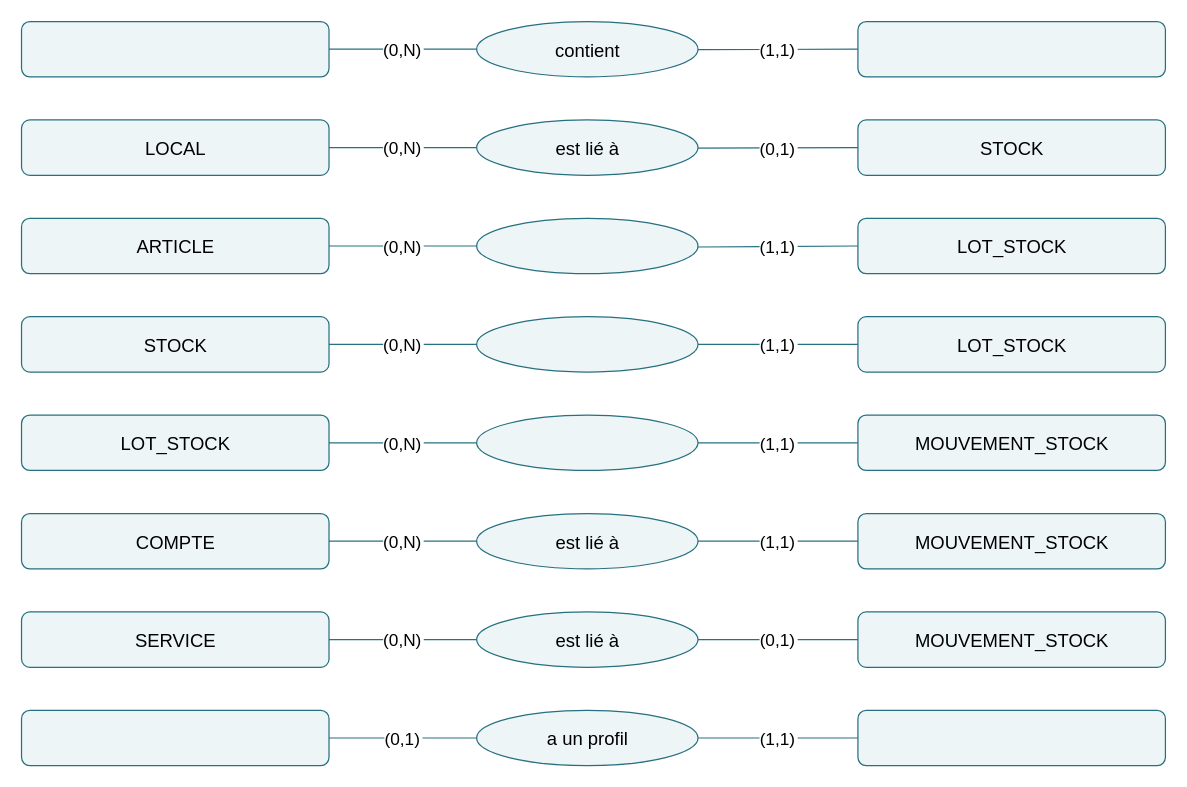
Some shapes in this 1187 by 787 pixel diagram are drawn without their labels. The centre of each missing label's shape, as x and y in pixels:
"ADOPTANT" belongs at (x=1011, y=737).
"CLIENT" belongs at (x=174, y=737).
"est mouvementé" belongs at (x=586, y=442).
"FACTURE" belongs at (x=174, y=48).
"héberge" belongs at (x=586, y=343).
"LIGNE_FACTURE" belongs at (x=1011, y=48).
"se décline en" belongs at (x=586, y=245).
